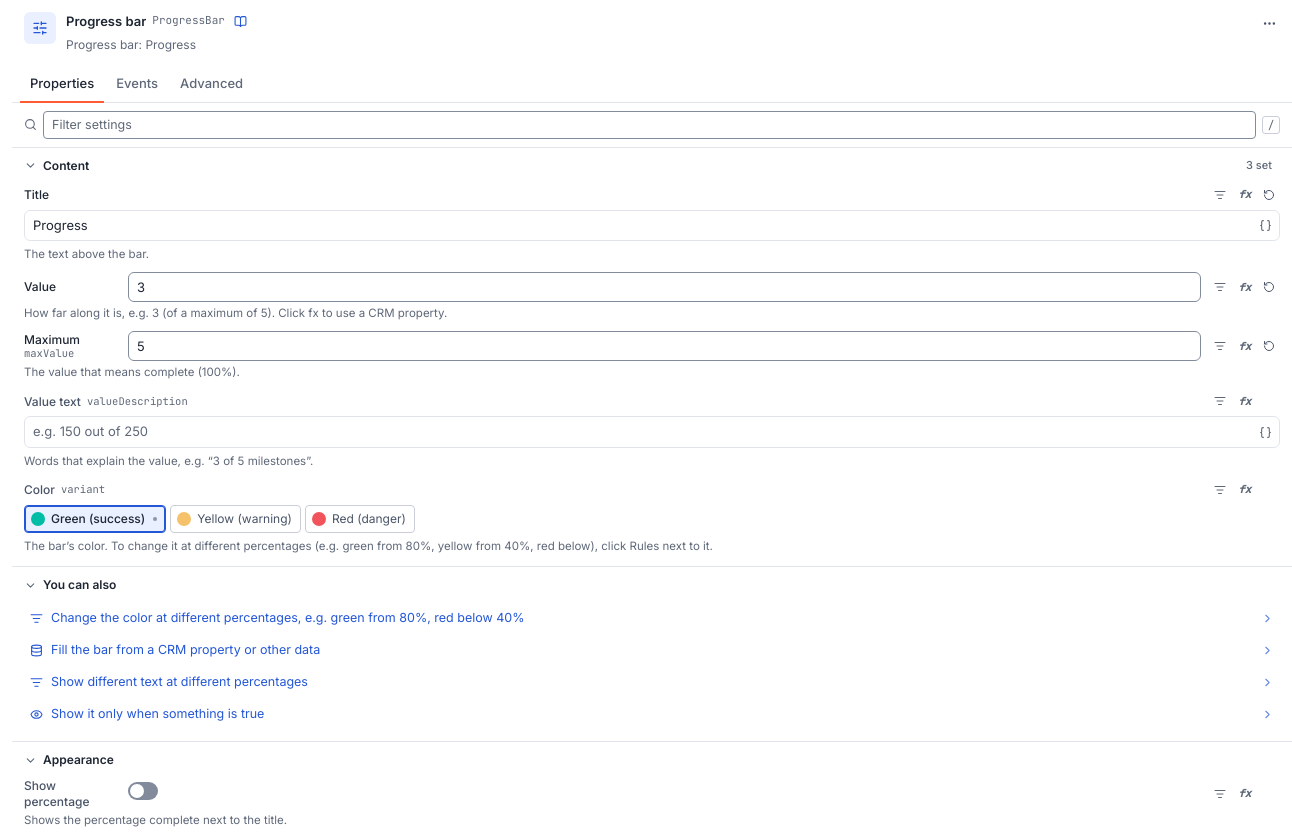
it: "You can also…" tips › a tip switches on the progress bar’s color rules in one click
Click the button "Change the color at different percentages": (288, 617) left=24, top=603, right=1280, bottom=633
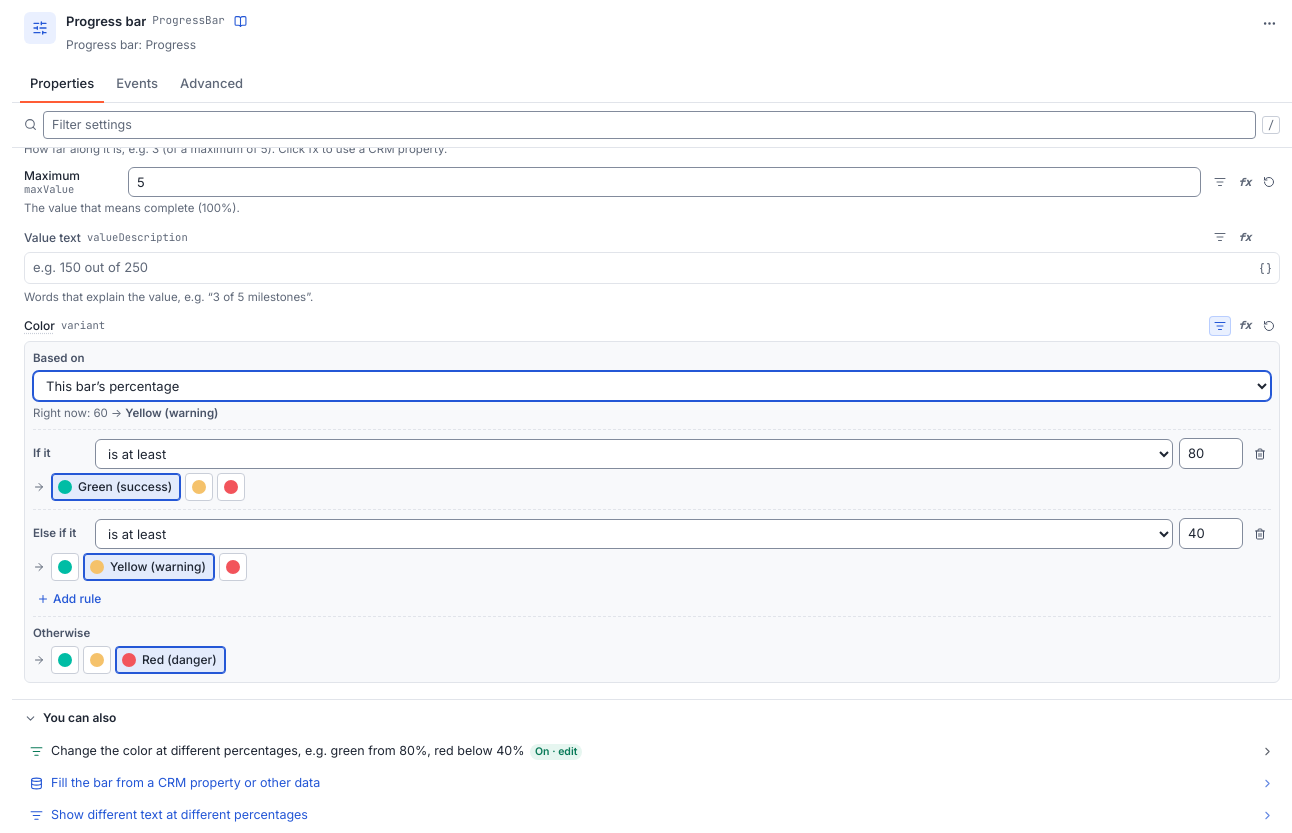
Result: the element named "Color rules" is shown at left=24, top=341, right=1280, bottom=683
